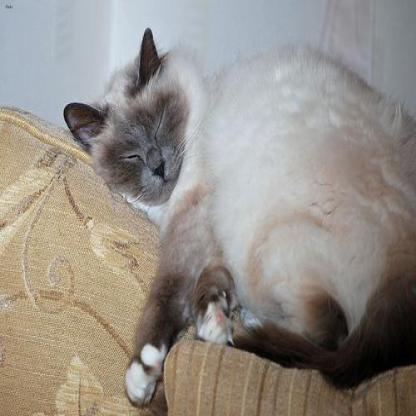cat: (63, 28, 415, 407)
